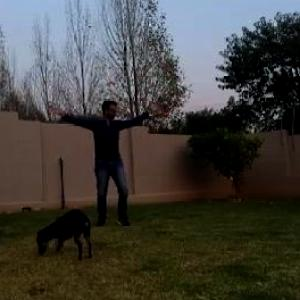takeoff: (33, 95, 159, 238)
